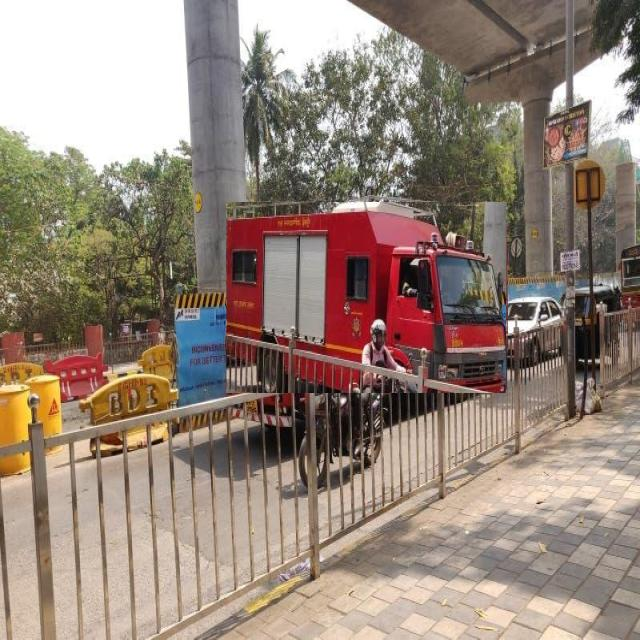car: (508, 297, 561, 334)
emergency: (226, 203, 506, 393)
